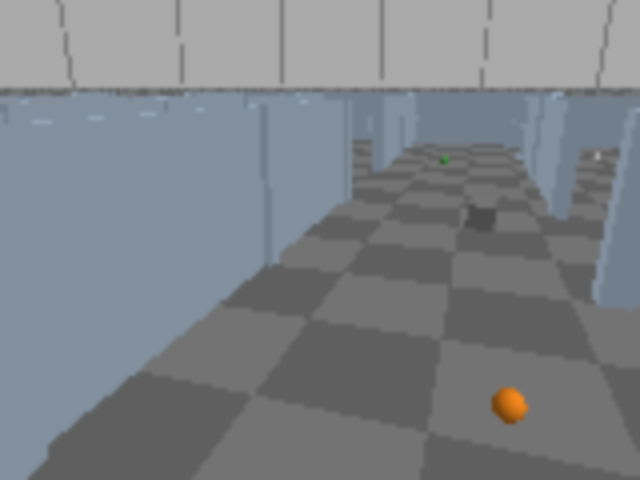obstacle: (465, 195, 499, 232)
puck: (483, 379, 536, 433)
